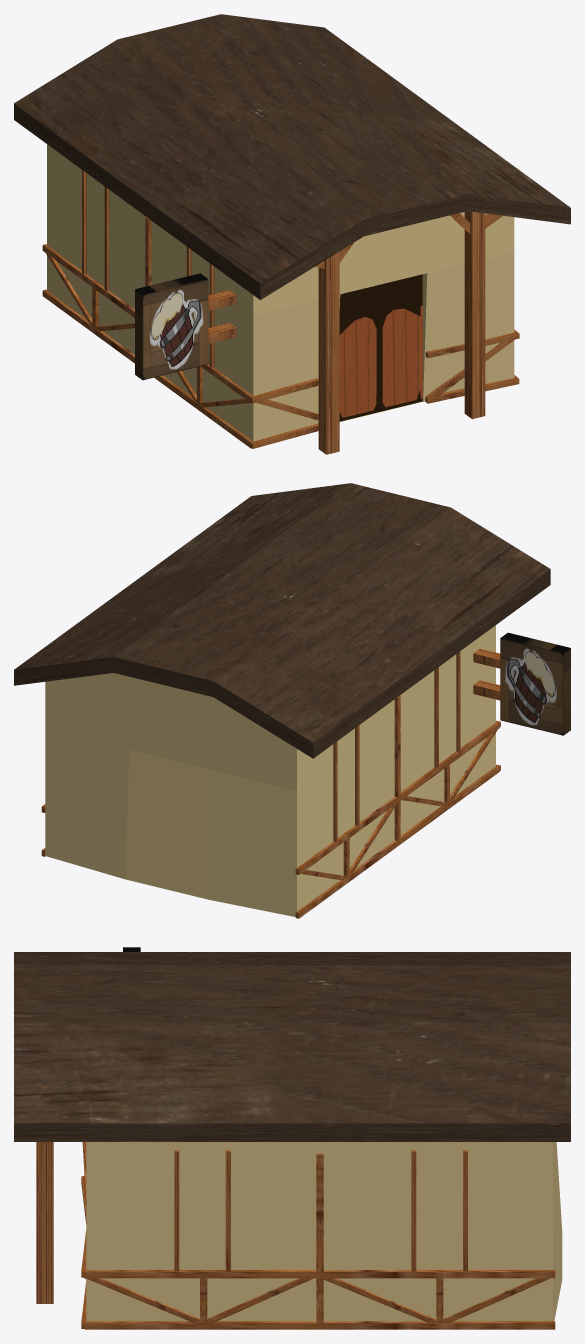
File: villageBar2.fbx
3 renders of one model, top to bottom at view 1: azimuth 30°, elevation 25°; view 2: azimuth 150°, elevation 25°; view 3: azimuth 270°, elevation 25°, orthographic. The views are drawn at different scales.
Visible parts, largest first — view 1: Cube.004, Cube, Cube.006, Cube.001, door, bannner; view 2: Cube.004, Cube, Cube.006, bannner; view 3: Cube.004, Cube, Cube.006, Cube.001.
Boxes of the visible parts, left/top/right/bottom form: Cube.004: left=14, top=14, right=570, bottom=299; Cube: left=47, top=144, right=514, bottom=441; Cube.006: left=42, top=170, right=519, bottom=448; Cube.001: left=318, top=211, right=485, bottom=454; door: left=339, top=305, right=422, bottom=417; bannner: left=135, top=273, right=208, bottom=380; Cube.004: left=14, top=483, right=550, bottom=758; Cube: left=45, top=625, right=495, bottom=916; Cube.006: left=41, top=651, right=500, bottom=918; bannner: left=500, top=632, right=570, bottom=735; Cube.004: left=14, top=952, right=570, bottom=1141; Cube: left=86, top=1142, right=562, bottom=1321; Cube.006: left=81, top=1142, right=555, bottom=1329; Cube.001: left=36, top=1142, right=53, bottom=1303.
Bounding box in the file's own units: 917 × 543 × 1030.
